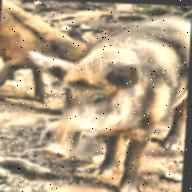boar: (19, 9, 192, 192), (0, 0, 92, 105)
